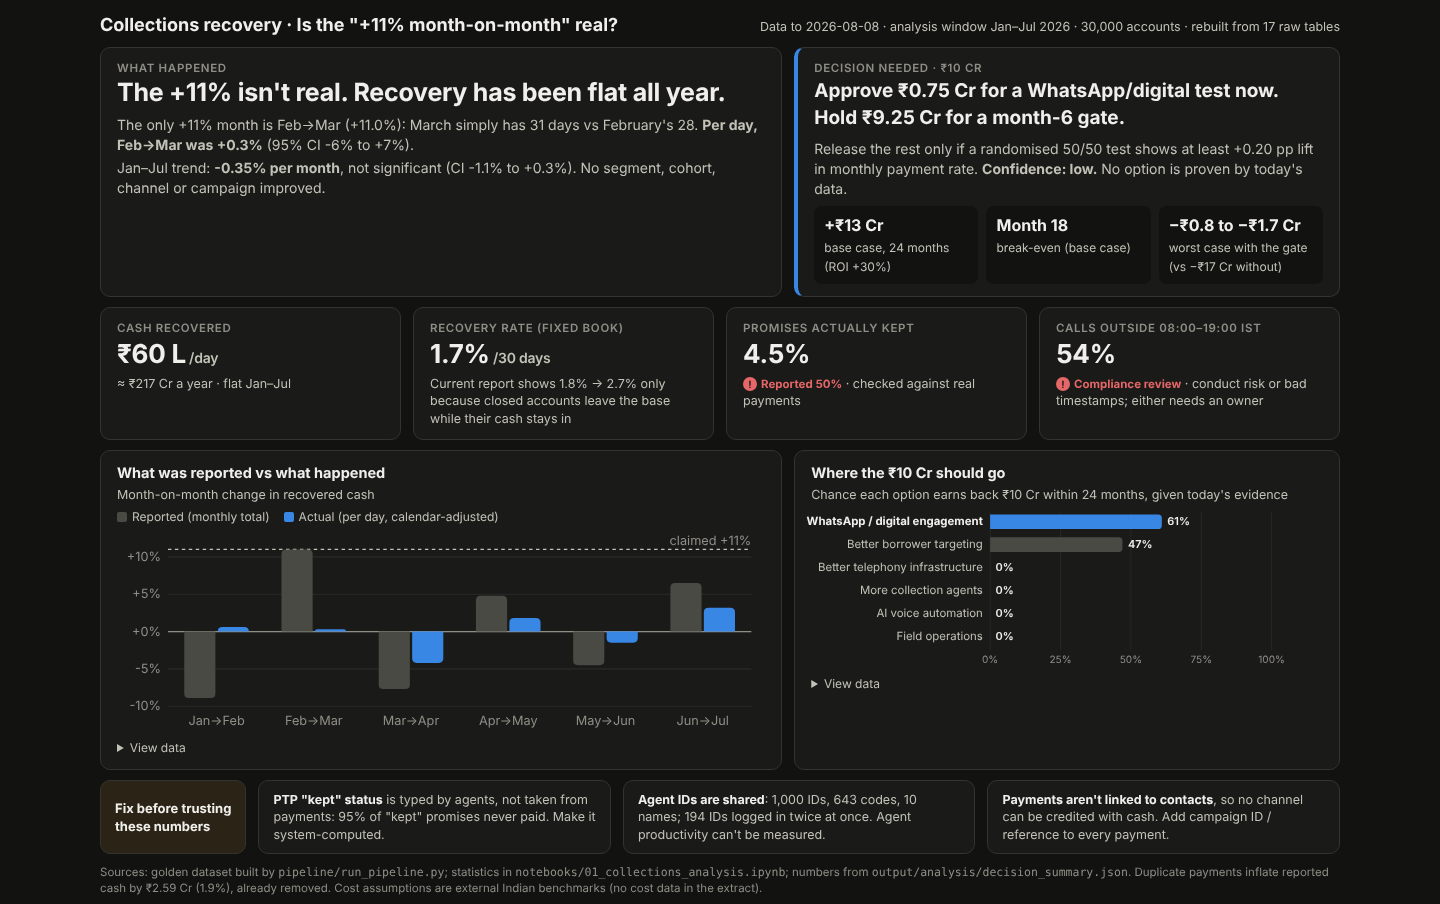

What the dashboard file says about the page in this screenshot:
{"tool":"tableau","page":{"name":"Executive Dashboard","canvas":[1366,768],"ordinal":0},"visuals":[{"type":"text","box":[8,8,1350,184]},{"type":"worksheet","title":"Headline KPIs","mark":"Automatic","cols":["KPI"],"box":[8,192,1190,215]},{"type":"legend","title":"Reported vs Actual MoM","param":"[federated.0n1gcxo0llsxgh1h1axap1788qhk].[none:Series:nk]","box":[1198,192,160,72]},{"type":"legend","title":"Where the 10 Cr Should Go","param":"[federated.0ckt9r9187q7na1elwyev1h6bdbm].[none:Status:nk]","box":[1198,264,160,72]},{"type":"worksheet","title":"Reported vs Actual MoM","mark":"Automatic","rows":["MoM Change %"],"cols":["Transition","Series"],"box":[8,407,595,353]},{"type":"worksheet","title":"Where the 10 Cr Should Go","mark":"Automatic","rows":["Option"],"cols":["Chance of Paying Back %"],"box":[603,407,595,353]}]}

Visuals, with their boxes on the page's 1366x768 design canvas (x1, y1, x2, y2). These are canvas units, not pixel positions in the 1440x904 screenshot, which may show the page scaled, cropped or inside an application window:
text: [left=8, top=8, right=1358, bottom=192]
"Headline KPIs" worksheet: [left=8, top=192, right=1198, bottom=407]
"Reported vs Actual MoM" legend: [left=1198, top=192, right=1358, bottom=264]
"Where the 10 Cr Should Go" legend: [left=1198, top=264, right=1358, bottom=336]
"Reported vs Actual MoM" worksheet: [left=8, top=407, right=603, bottom=760]
"Where the 10 Cr Should Go" worksheet: [left=603, top=407, right=1198, bottom=760]
